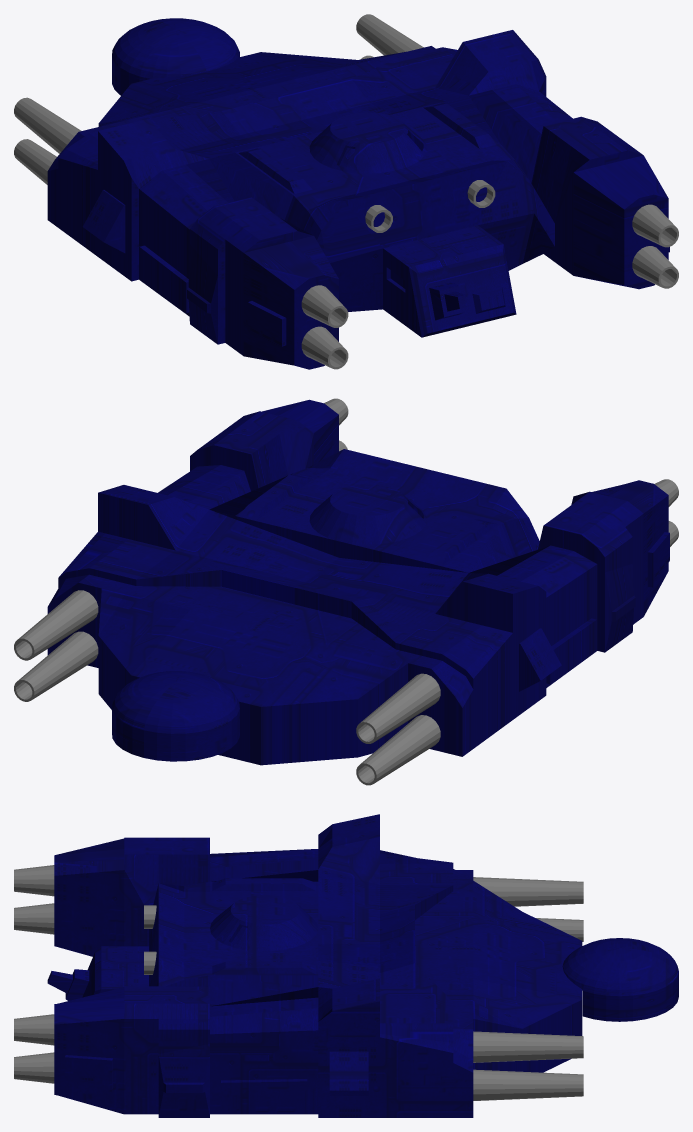
Rendered from mothership.glb.
The picture shows the model from 3 angles, top to bottom: view 1: azimuth 30°, elevation 25°; view 2: azimuth 150°, elevation 25°; view 3: azimuth 270°, elevation 25°; orthographic projection. The views are drawn at different scales.
Parts seen in each view (by area): view 1: Cube, Sphere; view 2: Cube, Sphere; view 3: Cube, Sphere.
Boxes of the visible parts, x1,y1,x2,y2 form: Cube: (14, 14, 678, 369); Sphere: (112, 18, 239, 95); Cube: (14, 398, 678, 785); Sphere: (112, 671, 239, 761); Cube: (14, 814, 583, 1117); Sphere: (562, 938, 678, 1021).
Size of the model in its own units: 2.79 by 0.7328 by 3.79.
Materials: 2 (1 with a texture image).
